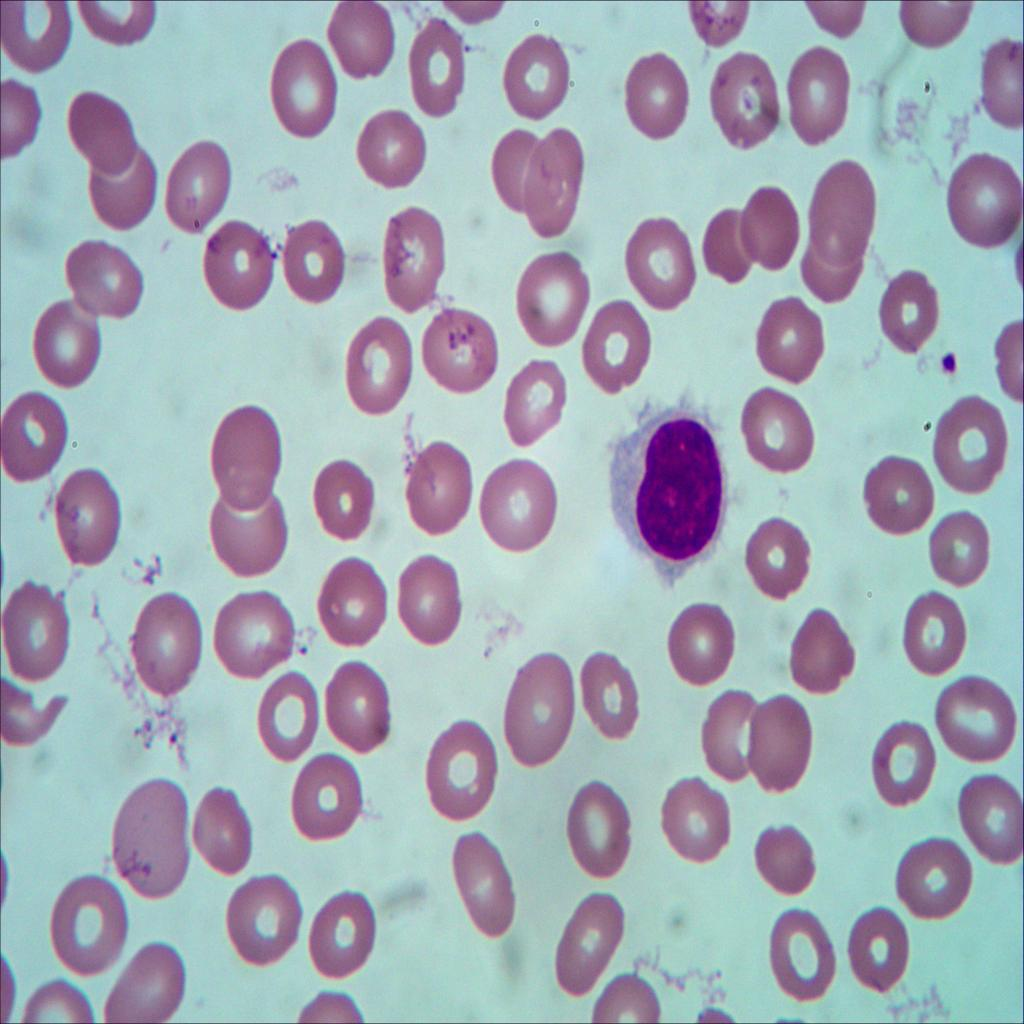Eritrosit: (922, 374, 1012, 508), (442, 826, 531, 955), (774, 40, 868, 158), (217, 868, 308, 978), (335, 98, 434, 197), (115, 774, 192, 901), (474, 452, 567, 556), (47, 464, 127, 584), (562, 769, 646, 883), (748, 295, 845, 393), (705, 49, 792, 157), (503, 642, 574, 774), (934, 672, 1024, 770), (130, 593, 206, 709), (544, 888, 630, 989), (383, 198, 461, 308), (46, 882, 136, 977), (163, 138, 248, 238), (509, 246, 594, 346), (421, 714, 504, 816), (205, 487, 296, 580), (736, 514, 826, 606), (336, 320, 422, 416), (520, 127, 586, 252), (490, 350, 579, 441), (734, 378, 822, 470), (403, 12, 470, 132), (747, 691, 820, 801), (779, 604, 859, 704), (624, 209, 700, 314), (800, 162, 879, 263), (201, 217, 279, 319), (210, 408, 285, 514), (268, 35, 341, 141), (944, 156, 1024, 252), (622, 43, 692, 152), (656, 769, 737, 863), (579, 300, 661, 392), (292, 747, 370, 843), (215, 585, 300, 672), (418, 308, 500, 398), (0, 580, 76, 677), (895, 836, 979, 923), (866, 265, 950, 352), (497, 24, 580, 112), (98, 943, 188, 1024), (0, 385, 76, 479), (956, 770, 1024, 874), (731, 181, 803, 279), (867, 718, 939, 814), (30, 300, 102, 396), (323, 666, 395, 761), (405, 438, 477, 531), (844, 904, 913, 1000), (308, 891, 380, 983), (900, 587, 968, 683), (667, 592, 736, 686), (586, 639, 647, 744), (310, 561, 387, 644), (744, 814, 819, 898), (922, 506, 992, 596), (258, 671, 322, 769), (196, 786, 256, 890), (395, 556, 468, 641), (0, 0, 76, 81), (774, 908, 838, 1004), (277, 211, 342, 304), (308, 460, 382, 541), (321, 2, 406, 70), (66, 246, 151, 314), (482, 122, 542, 217), (697, 202, 763, 288), (862, 456, 933, 534), (696, 688, 760, 774), (0, 680, 78, 750), (69, 105, 142, 179), (90, 158, 162, 232), (795, 238, 863, 308), (976, 35, 1024, 132)
Limfoblast: (605, 406, 731, 576)
Platelet: (934, 344, 960, 387)
